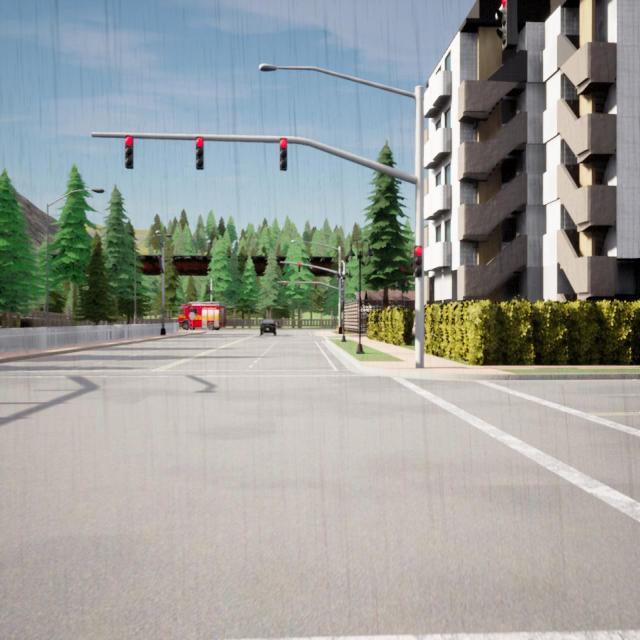Traffic_Signs: (190, 312, 194, 318)
Vehicle: (178, 301, 225, 329), (260, 318, 276, 336)
traffic_light: (495, 0, 517, 55), (122, 136, 134, 169), (194, 136, 205, 170), (415, 243, 423, 279), (279, 138, 288, 170), (298, 263, 301, 272), (314, 282, 317, 290), (284, 282, 286, 290), (298, 282, 300, 290)
